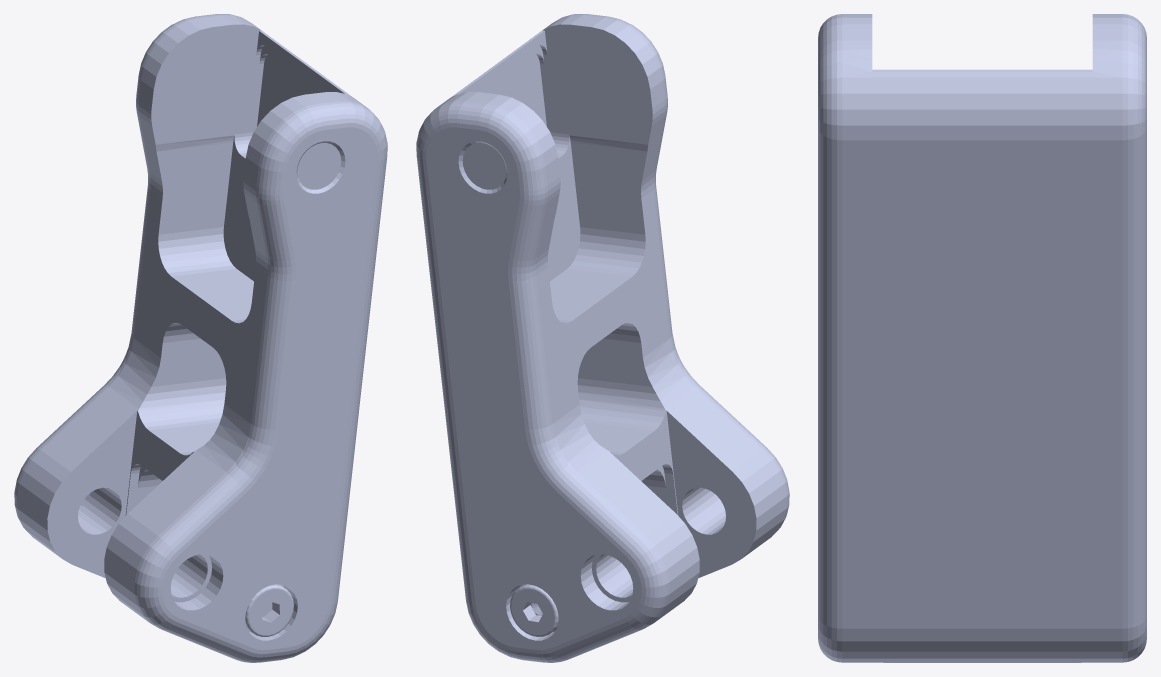
File: Finger2_B.obj
The picture shows the model from 3 angles, left to right: view 1: azimuth 30°, elevation 25°; view 2: azimuth 150°, elevation 25°; view 3: azimuth 270°, elevation 25°; orthographic projection. The views are drawn at different scales.
Parts seen in each view (by area): view 1: Finger2_B; view 2: Finger2_B; view 3: Finger2_B.
Part boxes in pixels (x1,y1,x2,y2): Finger2_B: [14, 14, 387, 662]; Finger2_B: [416, 14, 789, 662]; Finger2_B: [818, 14, 1146, 662].
Bounding box in the file's own units: 28.55 × 59.43 × 27.2.
